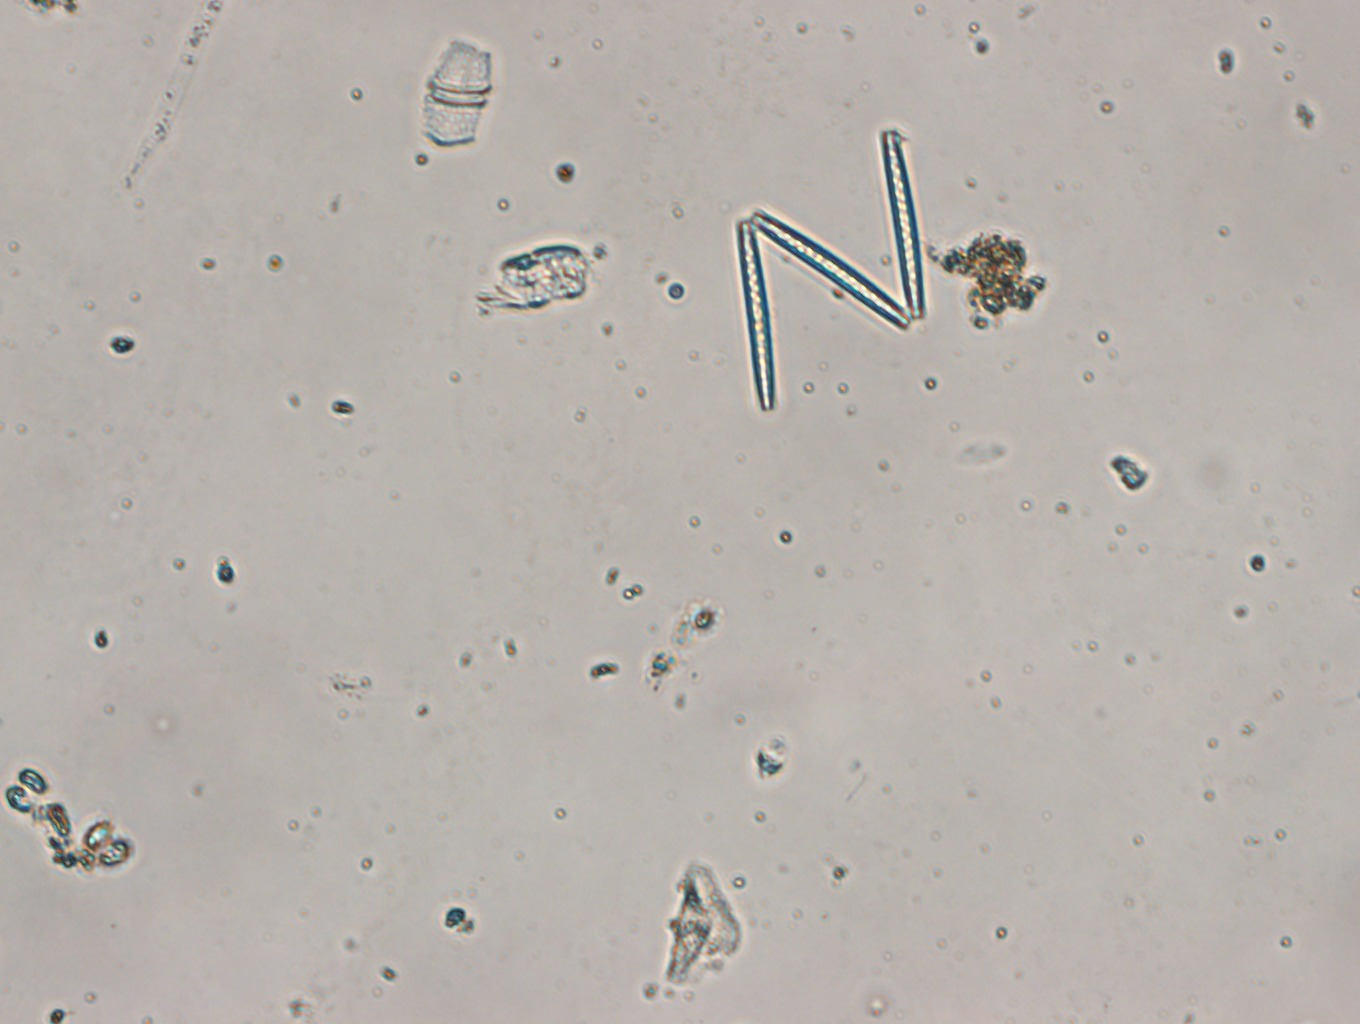thalassionema nitzschioides: (727, 120, 935, 419)
